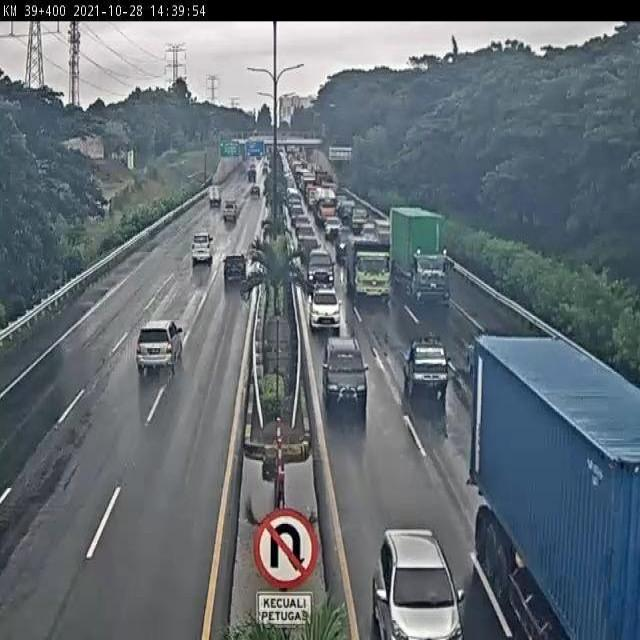big truck: (470, 330, 639, 640), (388, 204, 447, 304), (343, 235, 388, 296)
car: (374, 526, 464, 640), (321, 333, 366, 403), (134, 321, 183, 371), (405, 336, 447, 393), (308, 283, 338, 328), (306, 246, 331, 282), (190, 232, 212, 264), (224, 256, 249, 283), (297, 230, 318, 258), (223, 200, 238, 224)
